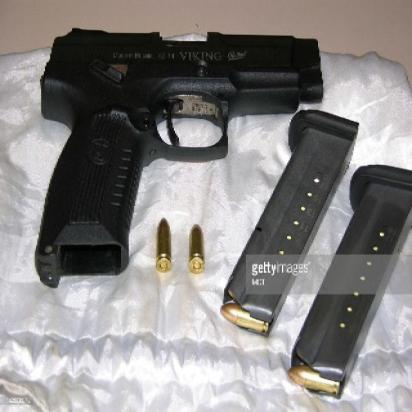Gun: (31, 25, 329, 289)
